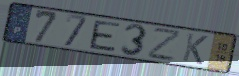3: (120, 23, 149, 58)
7: (34, 8, 59, 45), (64, 12, 88, 49)
E: (89, 19, 123, 53)
K: (181, 32, 210, 66)
Z: (146, 27, 183, 63)
